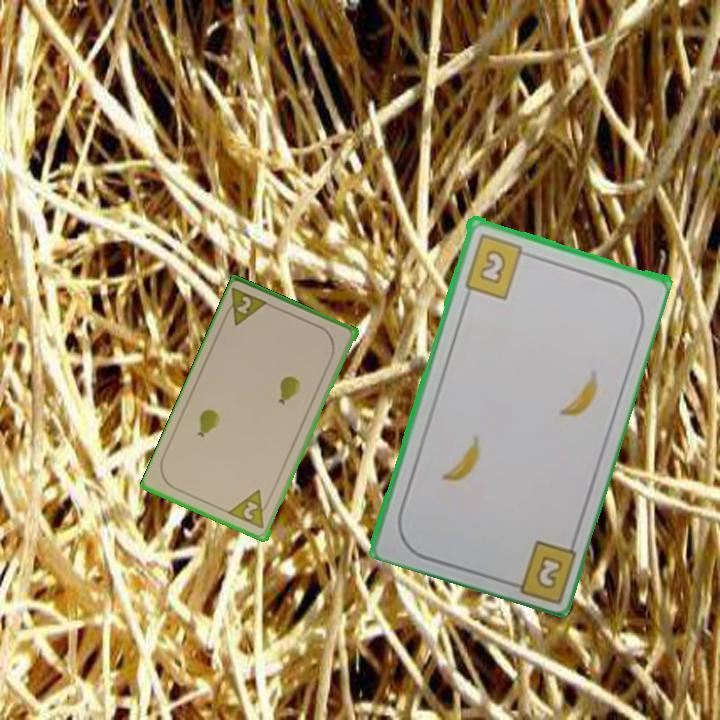2b: (460, 229, 534, 301), (502, 536, 579, 603)
2p: (226, 486, 274, 532), (233, 293, 255, 318)
